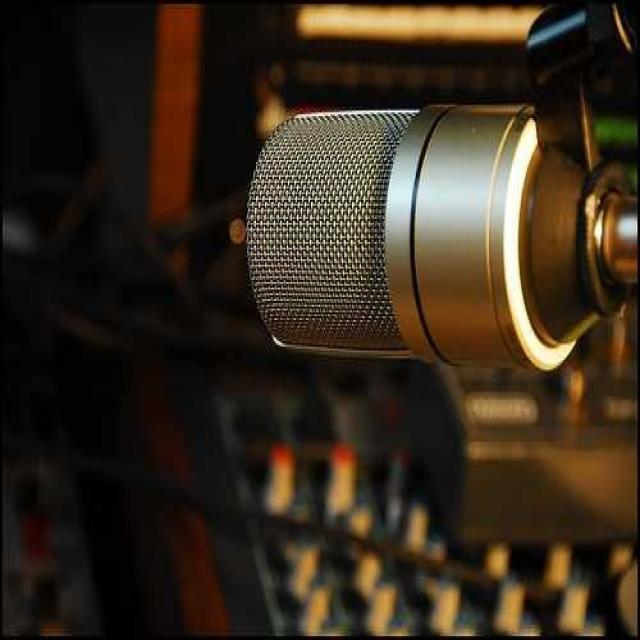microphone: (241, 94, 617, 370)
